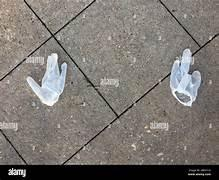Glove: (27, 53, 66, 105), (170, 49, 200, 105)
